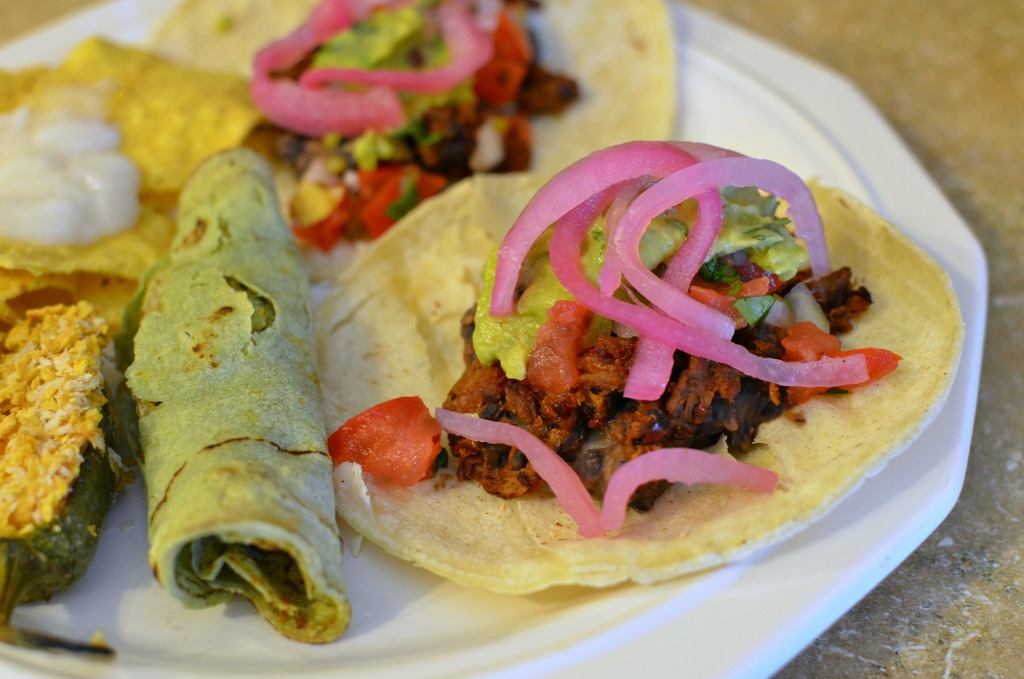taco: (372, 126, 1012, 621), (106, 1, 683, 272), (109, 149, 339, 640)
